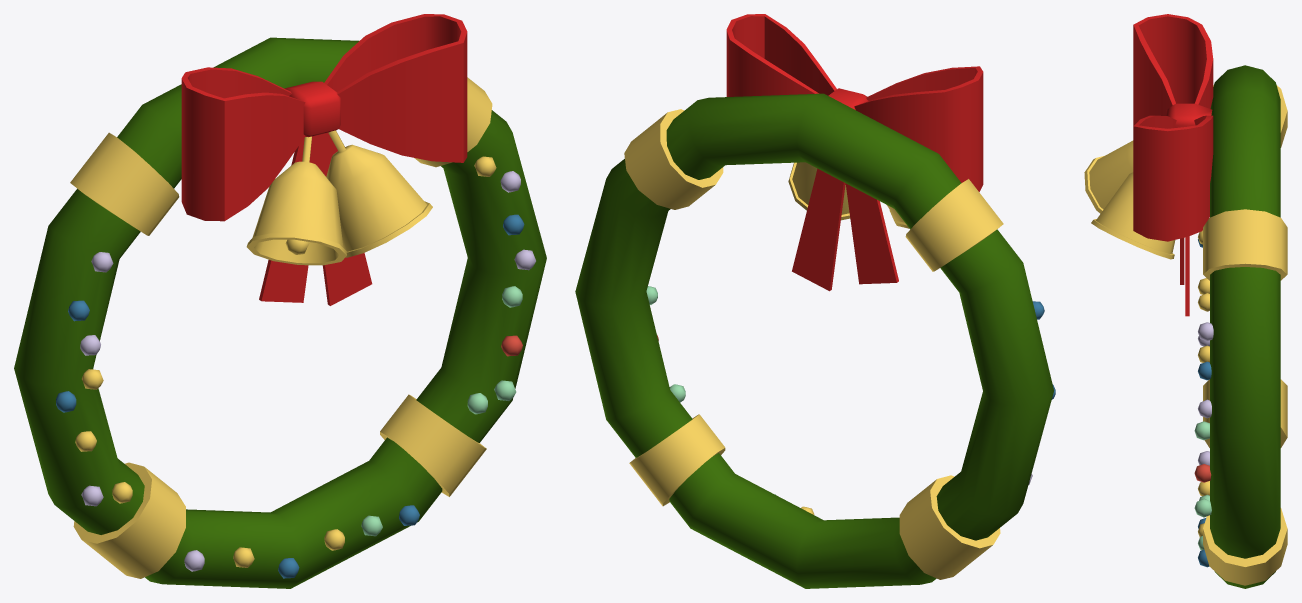
Rendered from Christmas_wreath_6.glb.
The picture shows the model from 3 angles, left to right: view 1: azimuth 30°, elevation 25°; view 2: azimuth 150°, elevation 25°; view 3: azimuth 270°, elevation 25°; orthographic projection. The views are drawn at different scales.
Parts seen in each view (by area): view 1: Christmas_wreath_6; view 2: Christmas_wreath_6; view 3: Christmas_wreath_6.
Part boxes in pixels (left/top/right/bottom): Christmas_wreath_6: left=14, top=14, right=546, bottom=588; Christmas_wreath_6: left=575, top=14, right=1055, bottom=588; Christmas_wreath_6: left=1084, top=14, right=1287, bottom=588.
Size of the model in its own units: 0.8728 by 0.9023 by 0.3371.
1 material, 1 textured.
